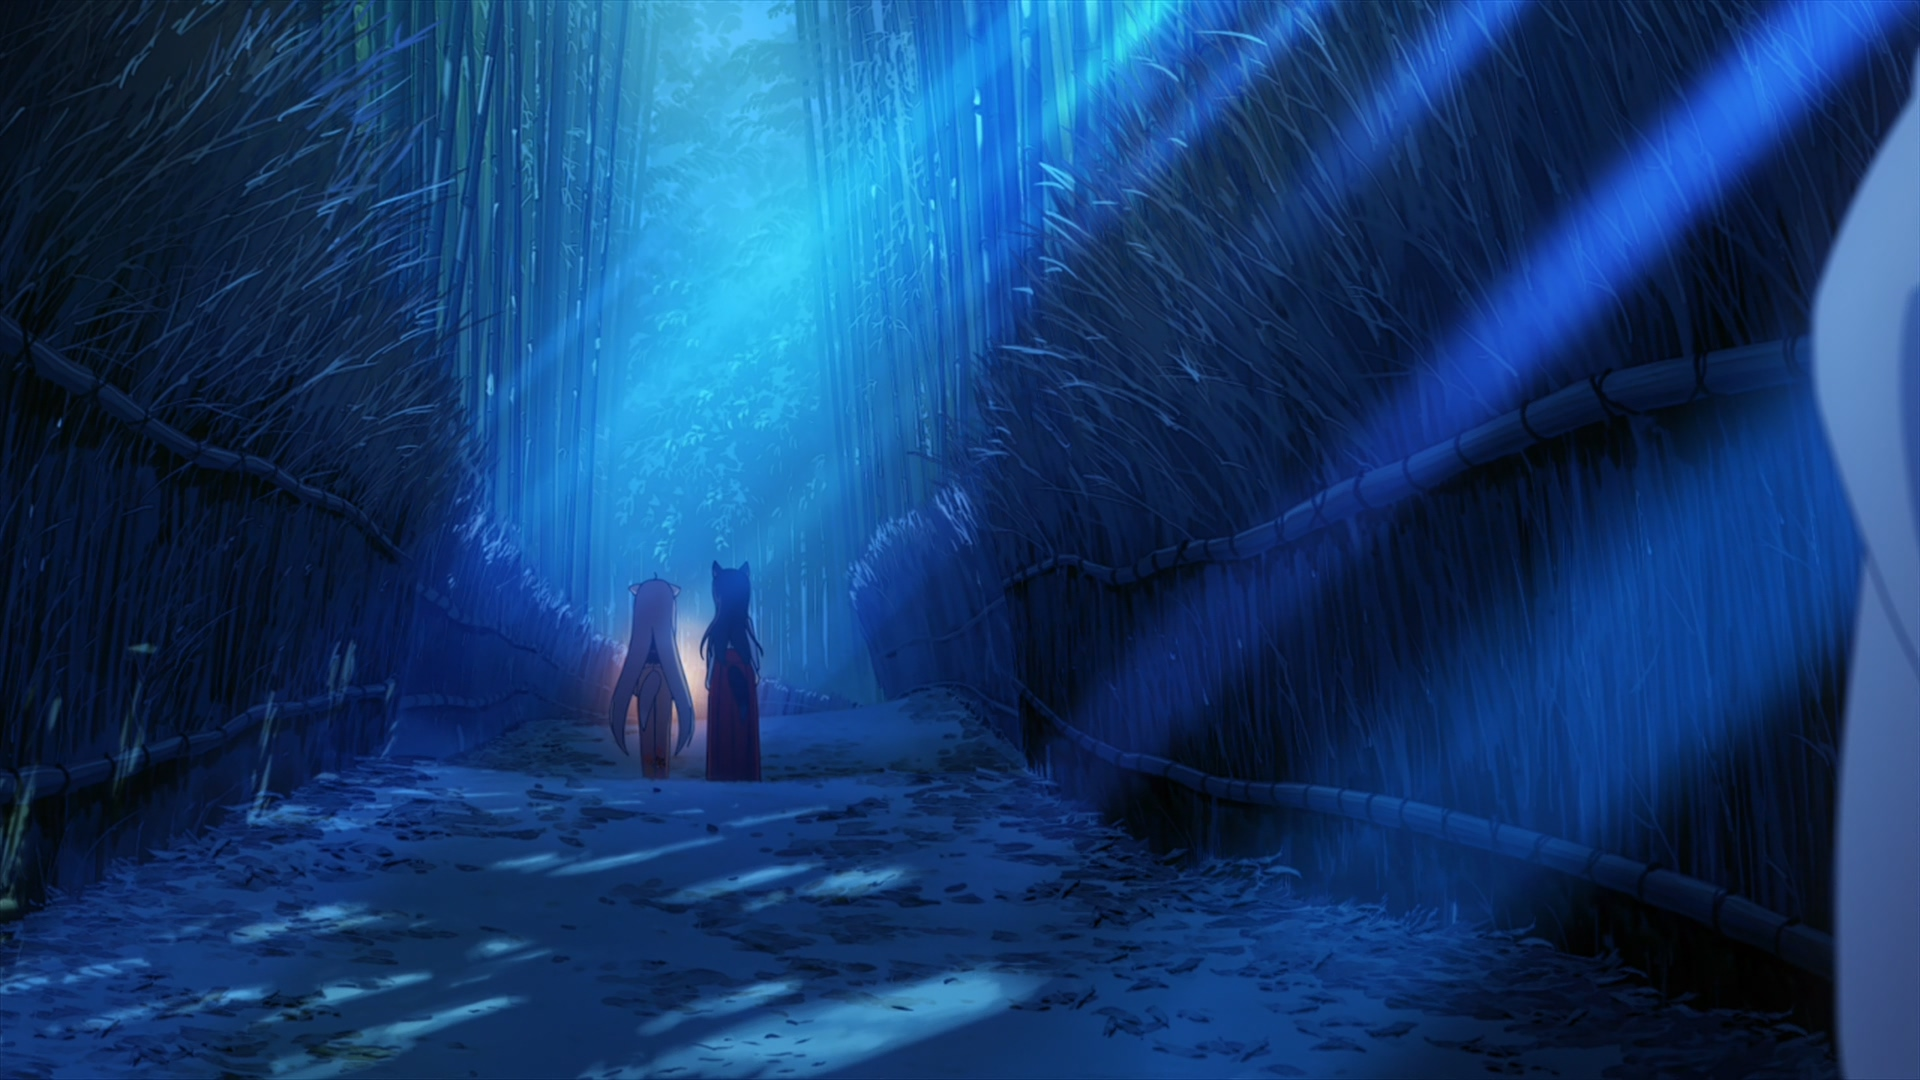柚: (612, 574, 694, 779)
皋: (700, 560, 765, 782)
